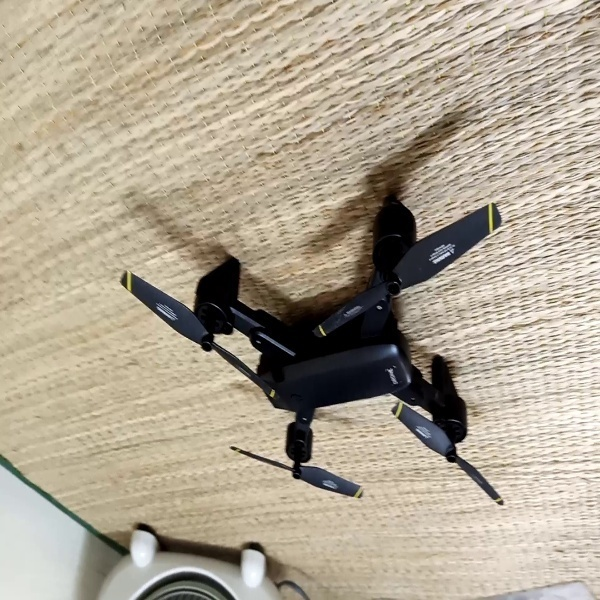drone: (113, 194, 513, 513)
